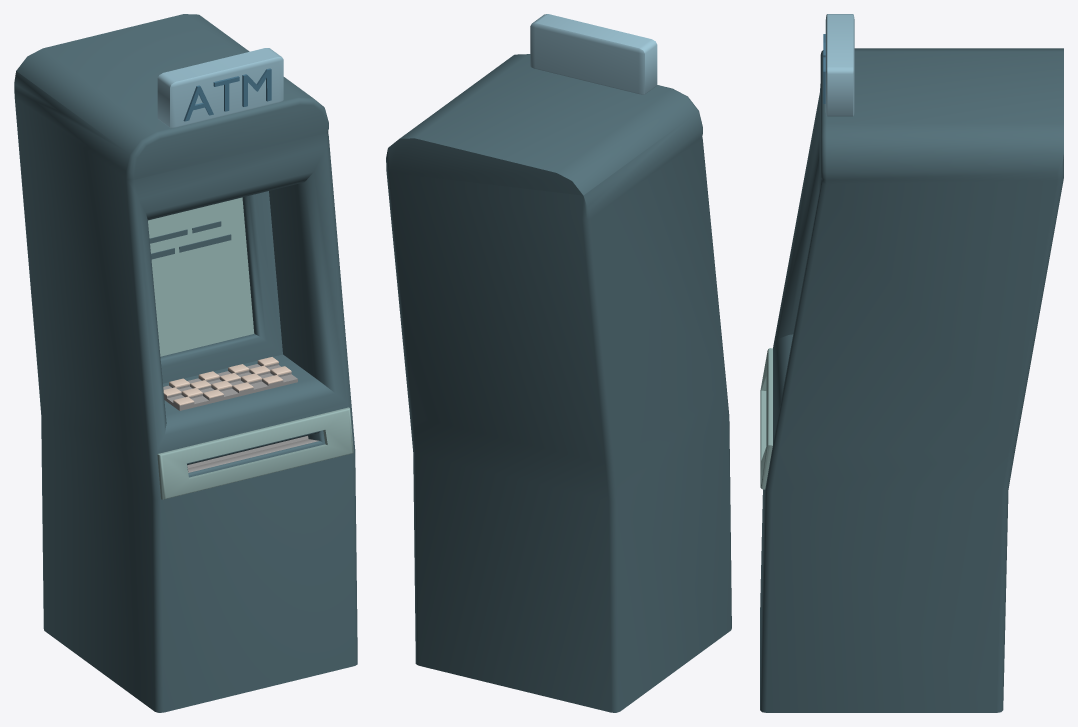
Rendered from Atm.fbx.
3 renders of one model, left to right at view 1: azimuth 30°, elevation 25°; view 2: azimuth 150°, elevation 25°; view 3: azimuth 270°, elevation 25°, orthographic. The views are drawn at different scales.
Visible parts, largest first — view 1: Atm; view 2: Atm; view 3: Atm.
Part boxes in pixels (x1=…): Atm: x1=14, y1=14, x2=357, y2=712; Atm: x1=386, y1=14, x2=731, y2=712; Atm: x1=760, y1=14, x2=1063, y2=712.
Bounding box in the file's own units: 200 × 563 × 250.
